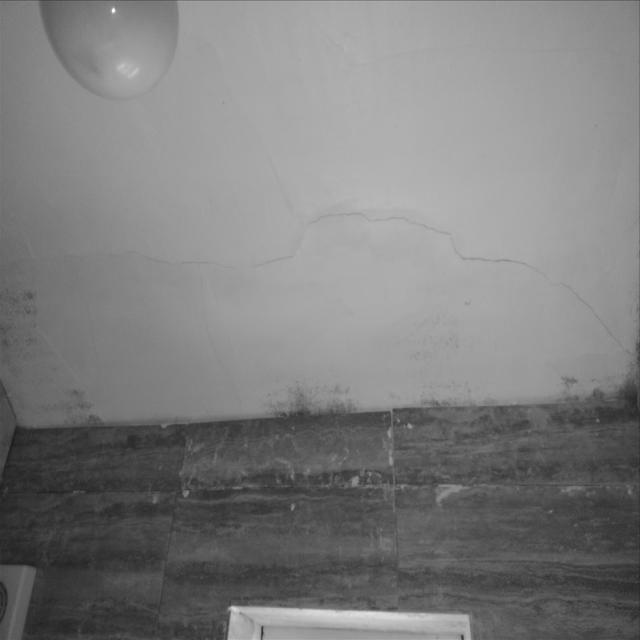stain marks: (0, 240, 109, 433), (540, 270, 640, 402), (256, 360, 368, 426), (380, 298, 474, 366), (380, 368, 506, 408)
